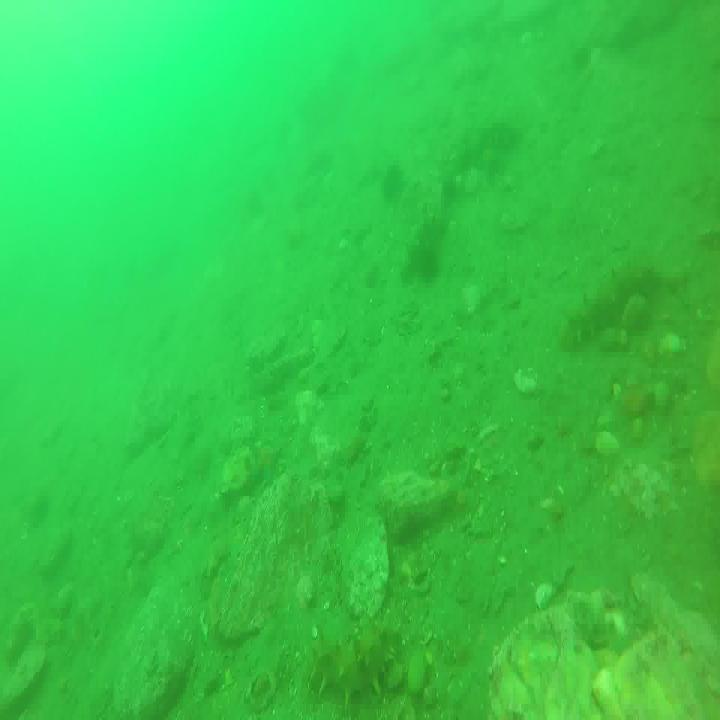holothurian: (558, 258, 661, 359), (304, 622, 405, 704)
